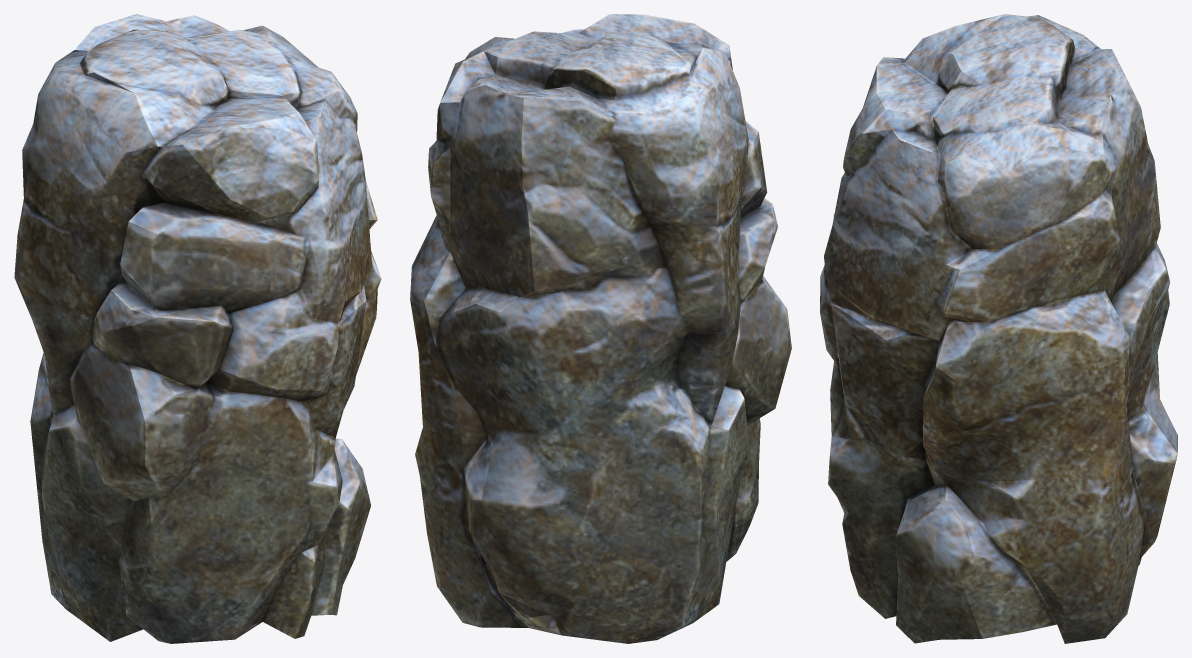
File: SM_EN_2007_shitou01.FBX
The picture shows the model from 3 angles, left to right: view 1: azimuth 30°, elevation 25°; view 2: azimuth 150°, elevation 25°; view 3: azimuth 270°, elevation 25°; orthographic projection. The views are drawn at different scales.
Parts seen in each view (by area): view 1: SM_EN_2007_shitou01; view 2: SM_EN_2007_shitou01; view 3: SM_EN_2007_shitou01.
Boxes of the visible parts, box(x1,y1,x2,y2) form: SM_EN_2007_shitou01: box(14, 14, 381, 643); SM_EN_2007_shitou01: box(410, 14, 791, 643); SM_EN_2007_shitou01: box(820, 14, 1177, 643).
Size of the model in its own units: 203 by 343 by 204.
